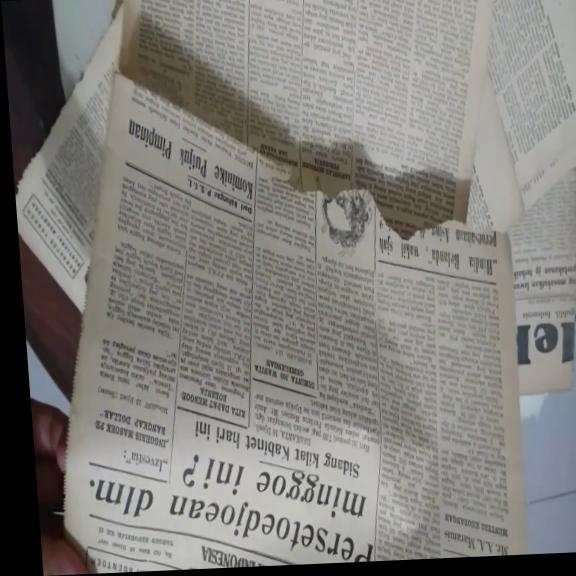Kertas: (29, 44, 522, 575)
